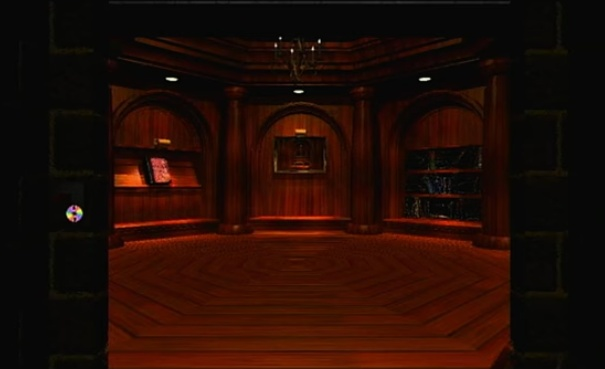Waiting: (63, 201, 86, 224)
